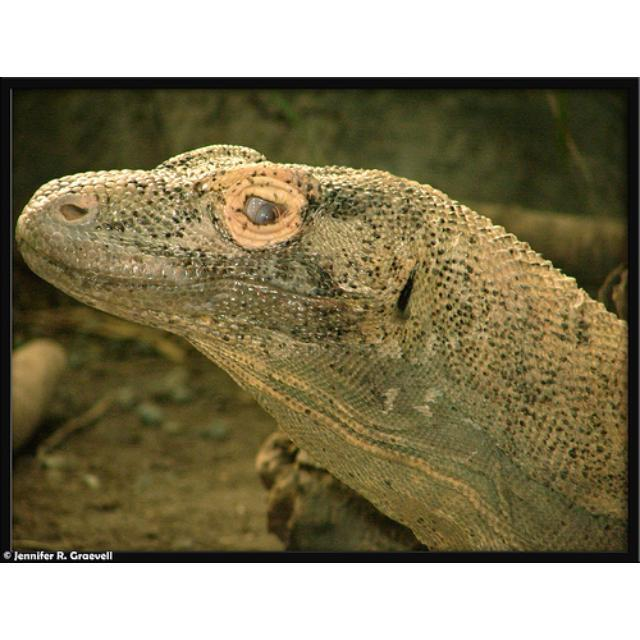KomodoDragon: (11, 141, 638, 551)
